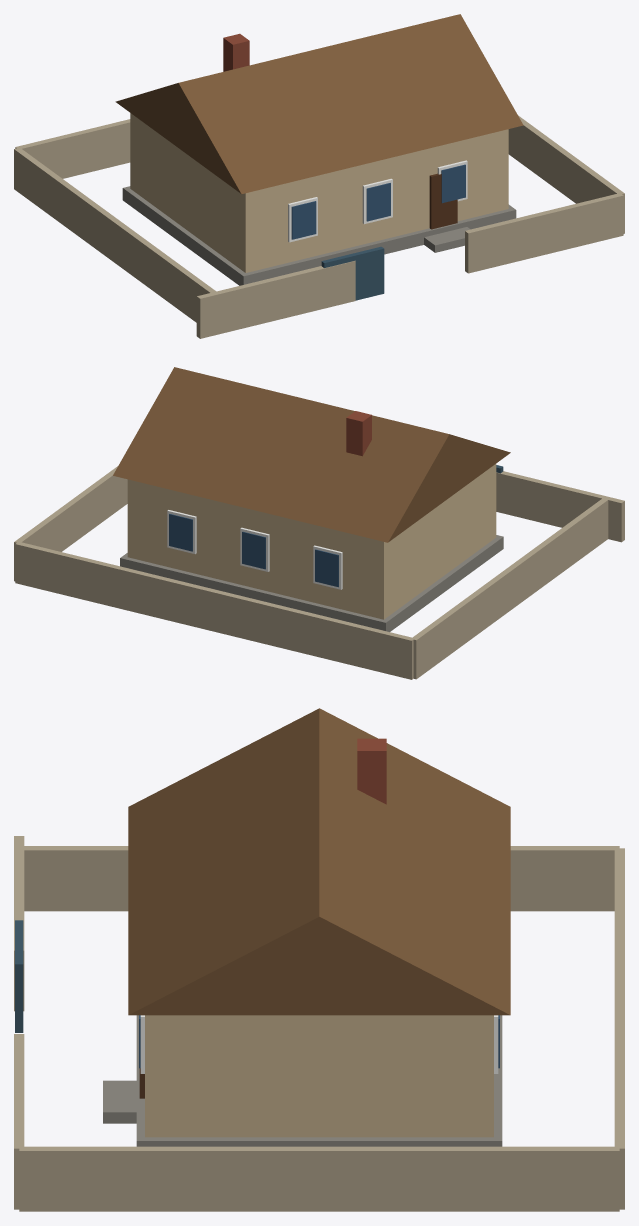
File: house2.glb
3 renders of one model, top to bottom at view 1: azimuth 30°, elevation 25°; view 2: azimuth 150°, elevation 25°; view 3: azimuth 270°, elevation 25°, orthographic. The views are drawn at different scales.
Parts seen in each view (by area): view 1: House; view 2: House; view 3: House.
Part boxes in pixels (box(x1,y1,x2,y2)): House: box(14, 14, 624, 338); House: box(14, 367, 624, 679); House: box(14, 708, 624, 1211).
Bounding box in the file's own units: 17.8 × 7 × 14.58.
